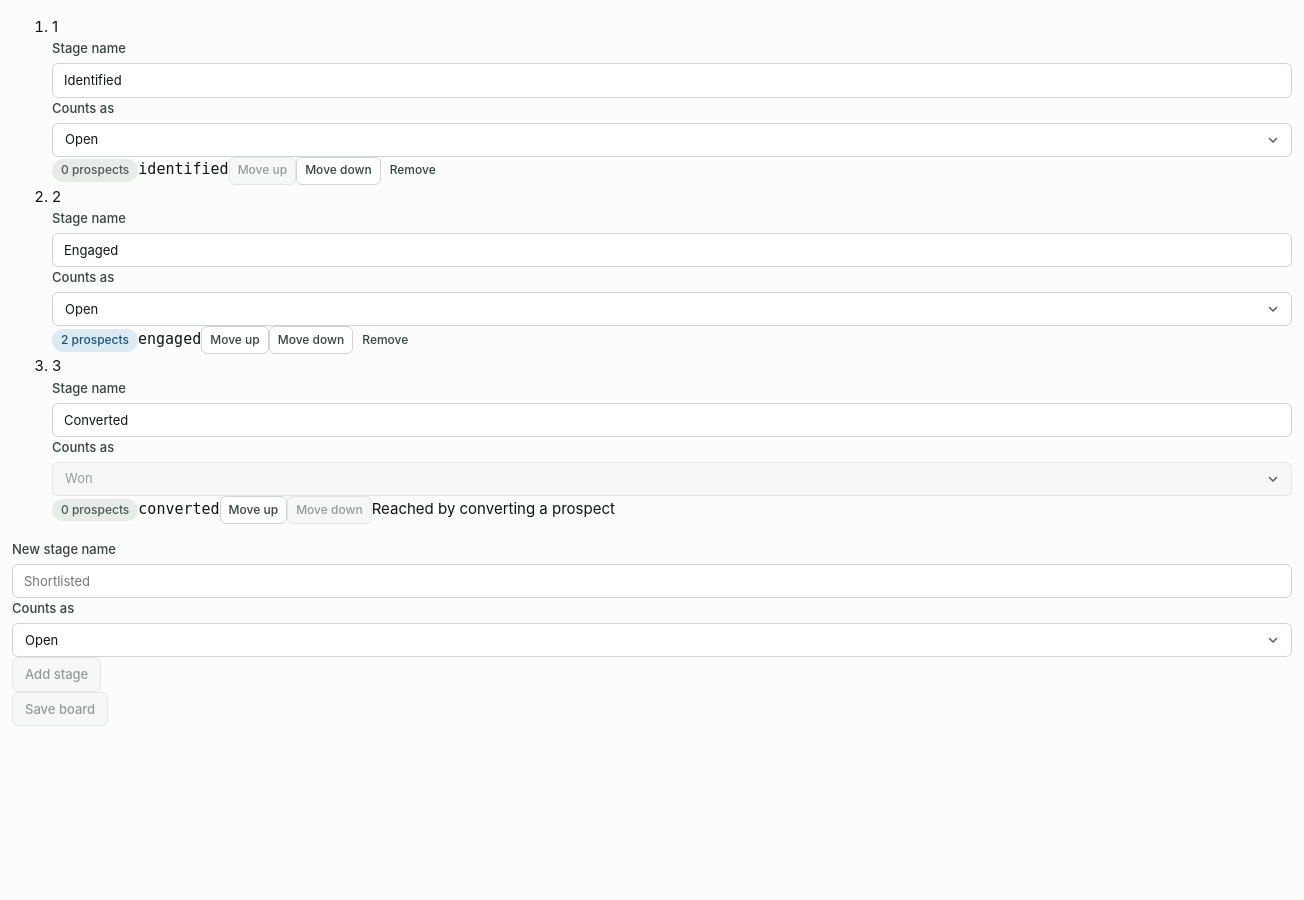
Test: ACC-CRM pipeline stage editor › refuses at the confirm too, so a rename typed while the dialog is open survives
Click the button "Remove" in the row of "engaged".
click(385, 340)  # box [353,326,417,354]
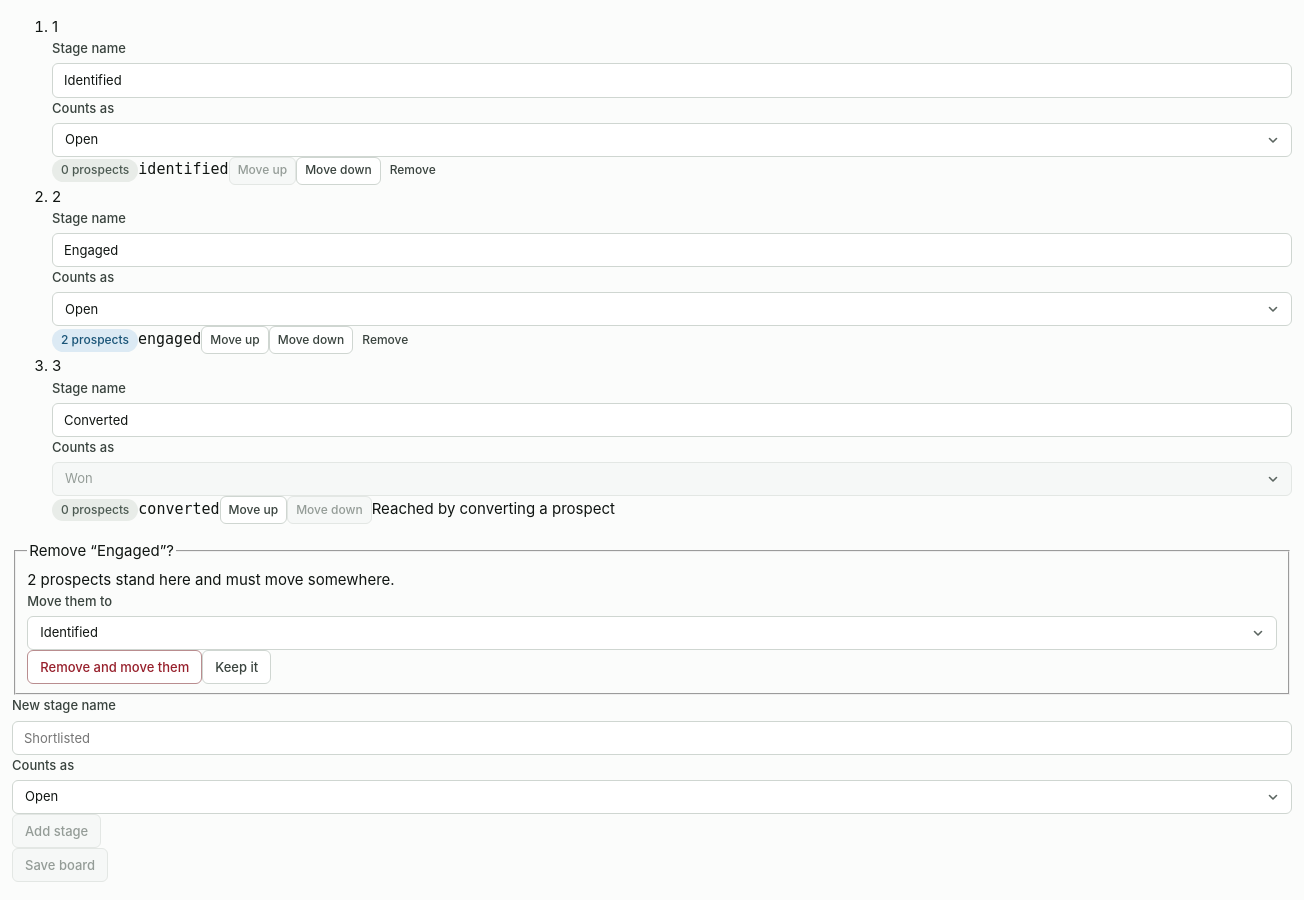
Replace the text in the 1st field labelled "Stage name" with "Sourcing" at (672, 80), box [52,63,1292,98]
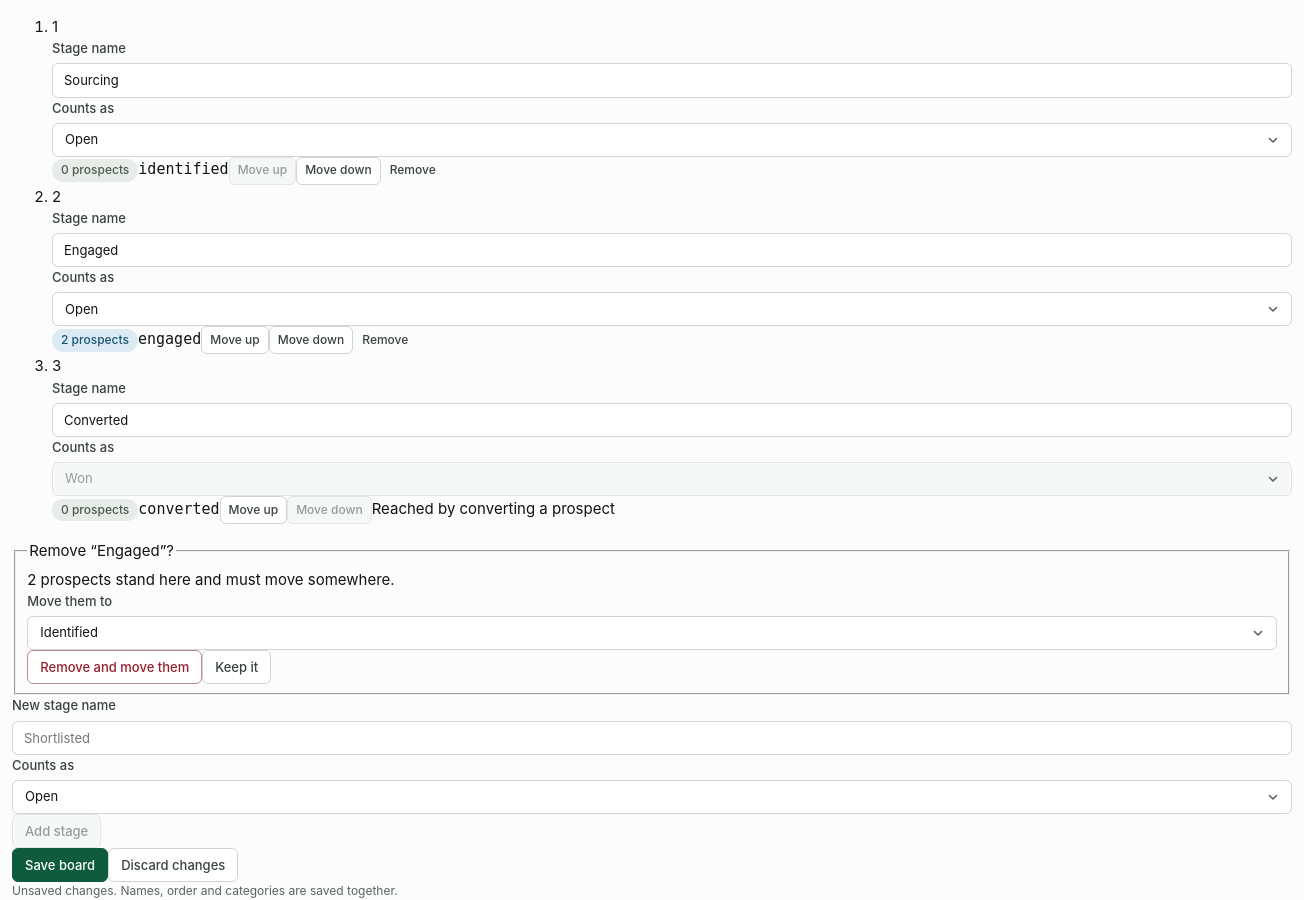
Click the button "Remove and move them".
click(115, 667)  # box [27,650,202,684]
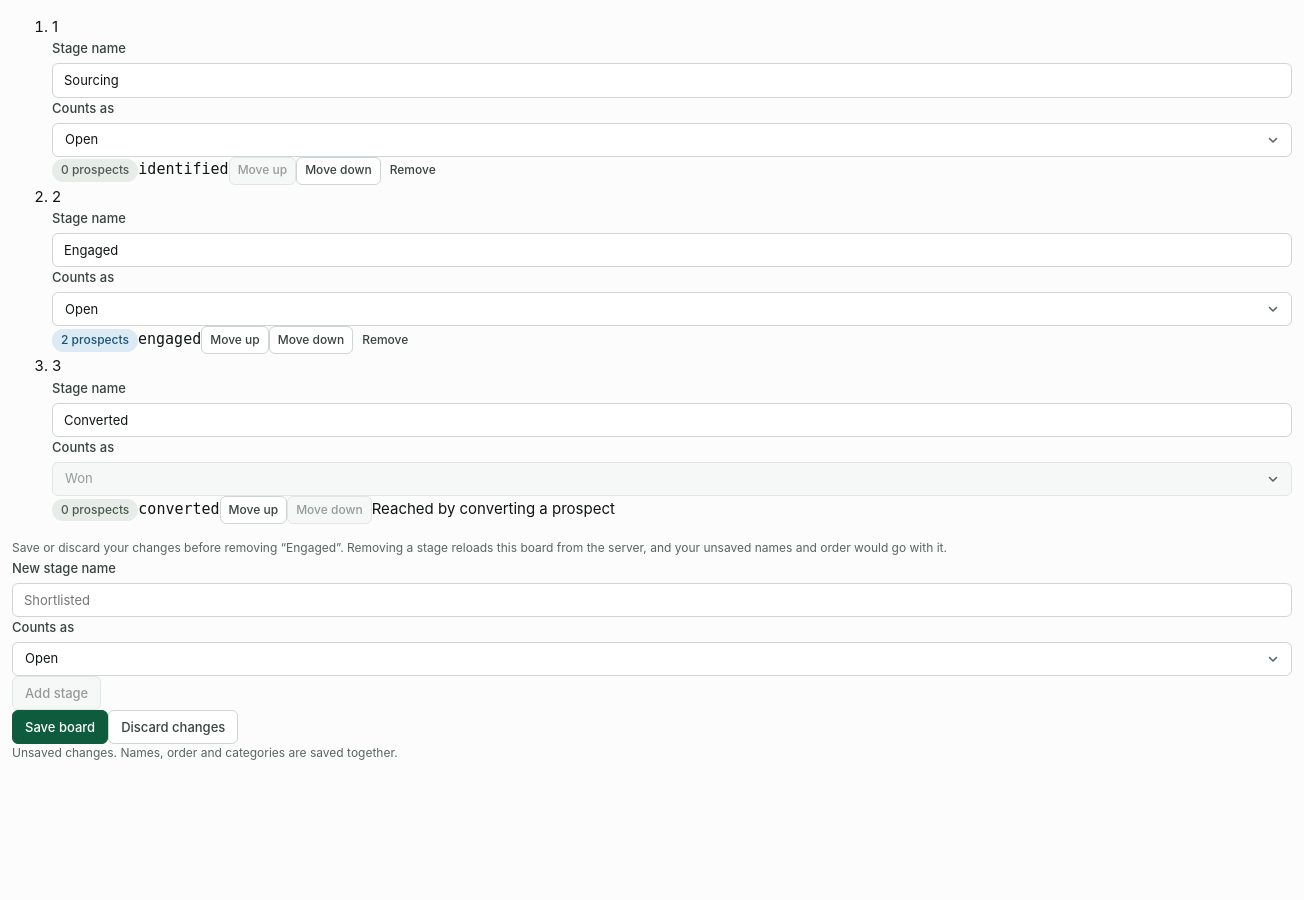
expect the 1st message shows "Save or discard your changes": met, box [12,540,286,555]
